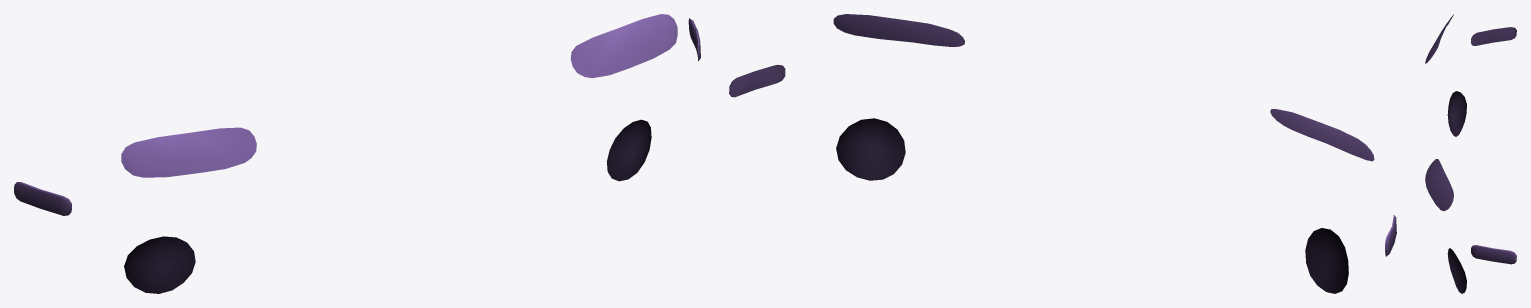
Rendered from MX5_FB03_Detail.fbx.
3 renders of one model, left to right at view 1: azimuth 30°, elevation 25°; view 2: azimuth 150°, elevation 25°; view 3: azimuth 270°, elevation 25°, orthographic. The views are drawn at different scales.
Parts seen in each view (by area): view 1: MX5_FB03_Detail; view 2: MX5_FB03_Detail; view 3: MX5_FB03_Detail.
Boxes of the visible parts, left/top/right/bottom form: MX5_FB03_Detail: left=14, top=14, right=700, bottom=293; MX5_FB03_Detail: left=729, top=14, right=1396, bottom=293; MX5_FB03_Detail: left=1425, top=14, right=1516, bottom=293.
Bounding box in the file's own units: 148 × 34.24 × 25.38.
